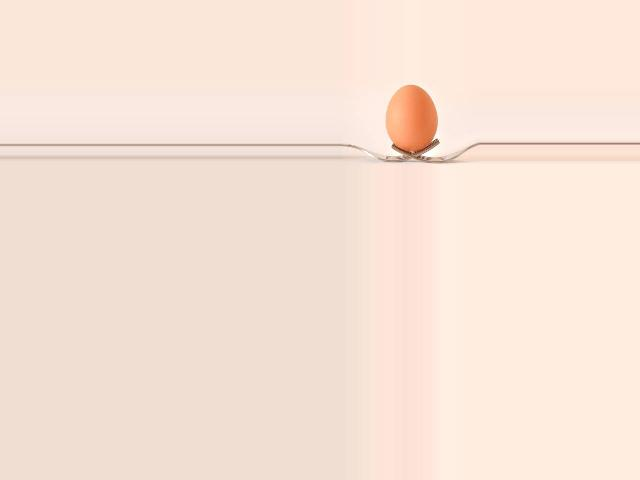egg: (385, 85, 436, 151)
